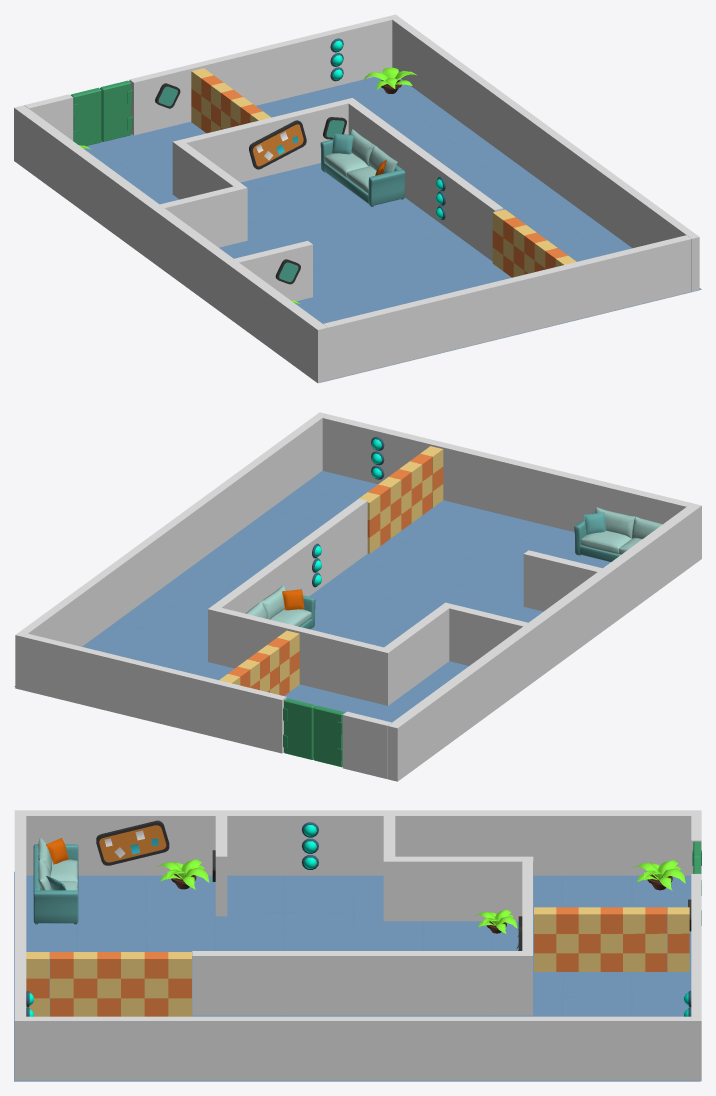
File: maps_25.fbx
3 views of the same model, one above another, from view 1: azimuth 30°, elevation 25°; view 2: azimuth 150°, elevation 25°; view 3: azimuth 270°, elevation 25° (orthographic). The views are drawn at different scales.
Parts seen in each view (by area): view 1: wall_01_08_geo, wall_01_05_geo, wall_01_07_geo, wall_01_06_geo, wall_01_09_geo, wall_01_03_geo1, wall_01_02_geo, sofa_geo, wall_01_03_geo3, wall_01_03_geo2, wall_01_03_geo, polySurface165 (+4 smaller); view 2: wall_01_08_geo, wall_01_07_geo, wall_01_06_geo, wall_01_05_geo, wall_01_09_geo, wall_01_02_geo, wall_01_03_geo1, wall_01_03_geo3, sofa_geo1, wall_01_03_geo, wall_01_03_geo2, wall_01_09_geo1 (+3 smaller); view 3: wall_01_06_geo, wall_01_08_geo, wall_01_07_geo, wall_01_03_geo1, wall_01_03_geo3, sofa_geo1, wall_01_05_geo, picture_2_geo1, wall_01_02_geo, wall_01_09_geo, wall_01_03_geo, wall_02_02_17_geo (×2) (+24 smaller).
Boxes of the visible parts, box(x1,y1,x2,y2) form: wall_01_08_geo: box(84, 77, 701, 382); wall_01_05_geo: box(323, 235, 691, 380); wall_01_07_geo: box(14, 105, 327, 383); wall_01_06_geo: box(388, 14, 699, 291); wall_01_09_geo: box(129, 16, 392, 135); wall_01_03_geo1: box(348, 101, 503, 261); wall_01_02_geo: box(181, 98, 356, 182); sofa_geo: box(320, 129, 405, 206); wall_01_03_geo3: box(172, 139, 247, 242); wall_01_03_geo2: box(160, 186, 238, 247); wall_01_03_geo: box(234, 241, 312, 301); polySurface165: box(100, 80, 132, 141); wall_01_08_geo: box(14, 471, 610, 759); wall_01_07_geo: box(387, 503, 701, 781); wall_01_06_geo: box(15, 412, 327, 690); wall_01_05_geo: box(322, 414, 691, 532); wall_01_09_geo: box(23, 633, 286, 753); wall_01_02_geo: box(208, 605, 383, 703); wall_01_03_geo1: box(213, 499, 367, 613); wall_01_03_geo3: box(379, 602, 453, 705); sofa_geo1: box(574, 507, 662, 561); wall_01_03_geo: box(523, 550, 602, 611); wall_01_03_geo2: box(449, 604, 528, 665); wall_01_09_geo1: box(342, 711, 391, 778); wall_01_06_geo: box(14, 1016, 701, 1081); wall_01_08_geo: box(14, 871, 700, 1081); wall_01_07_geo: box(14, 810, 701, 875); wall_01_03_geo1: box(192, 951, 522, 1015); wall_01_03_geo3: box(383, 856, 533, 921); sofa_geo1: box(33, 838, 78, 924); wall_01_05_geo: box(14, 816, 26, 1016); picture_2_geo1: box(96, 820, 169, 865); wall_01_02_geo: box(522, 861, 532, 1015); wall_01_09_geo: box(691, 874, 701, 1016); wall_01_03_geo: box(215, 815, 227, 916); wall_02_02_17_geo (×2): box(144, 907, 667, 978).
Bounding box in the file's own units: 66.8 × 9.04 × 91.8.
Materials: 7 (7 with a texture image).
